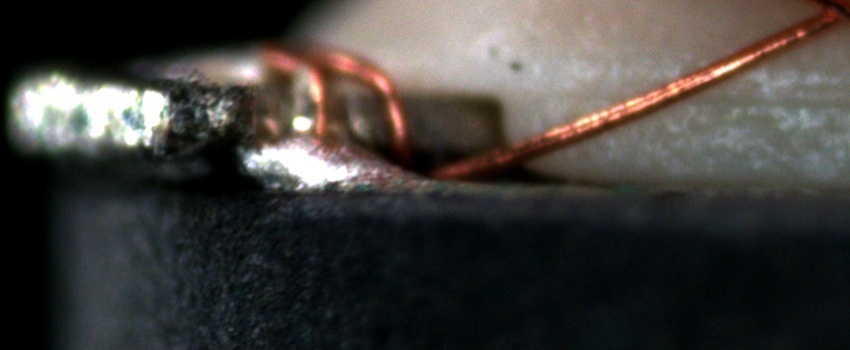CL: (800, 1, 849, 31)
DL: (593, 58, 847, 121)
TE: (261, 35, 418, 160)
